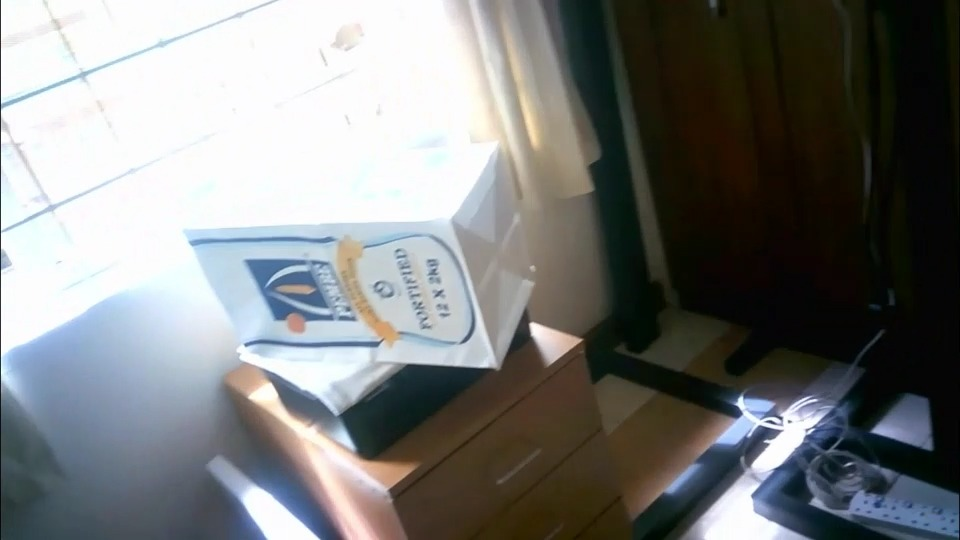wheat_flour_blue_label: (182, 143, 539, 368)
